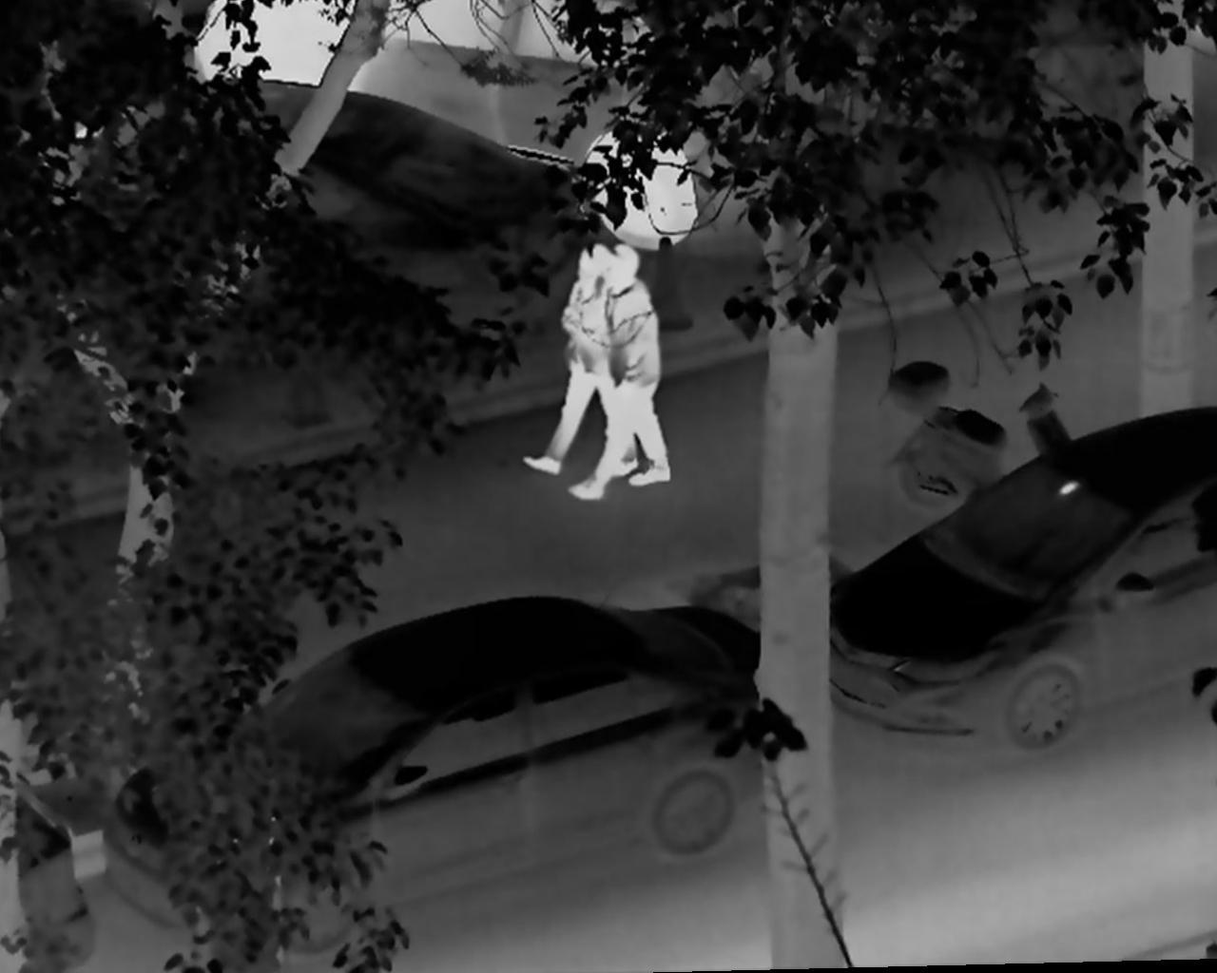person: (564, 245, 671, 504), (526, 241, 637, 483)
